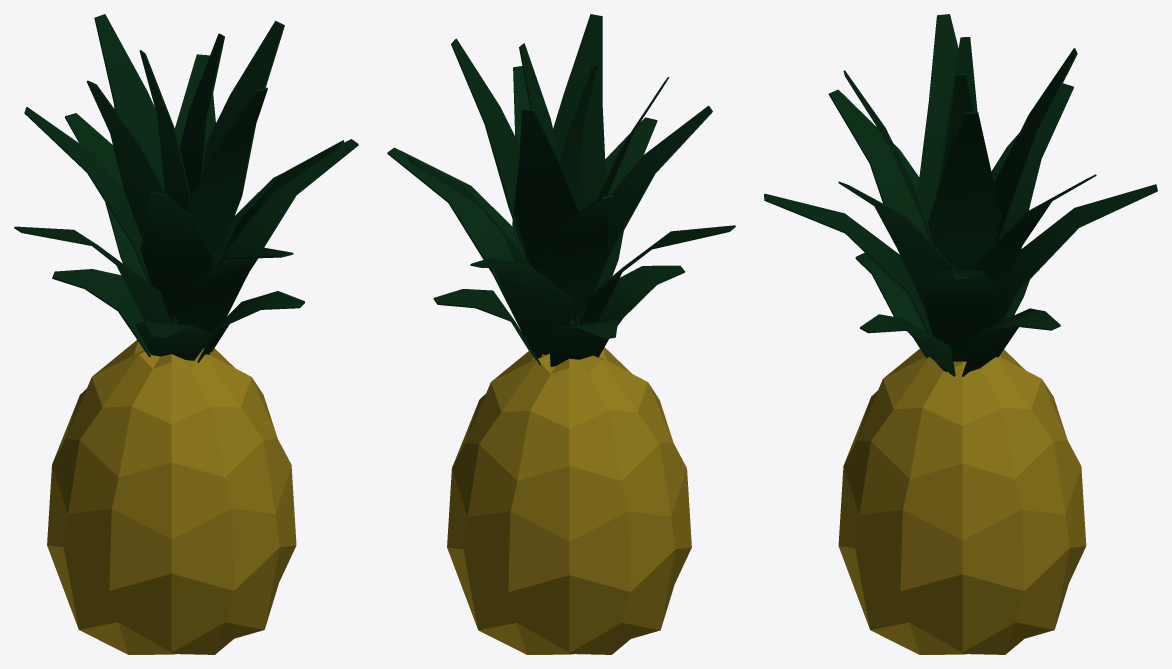
File: Pineapple.FBX
3 views of the same model, side by side, from view 1: azimuth 30°, elevation 25°; view 2: azimuth 150°, elevation 25°; view 3: azimuth 270°, elevation 25° (orthographic).
Parts seen in each view (by area): view 1: Line001; view 2: Line001; view 3: Line001.
Part boxes in pixels (x1,y1,x2,y2): Line001: [14, 14, 358, 654]; Line001: [387, 14, 735, 654]; Line001: [764, 14, 1157, 654].
Bounding box in the file's own units: 15.2 × 25.17 × 15.2.
